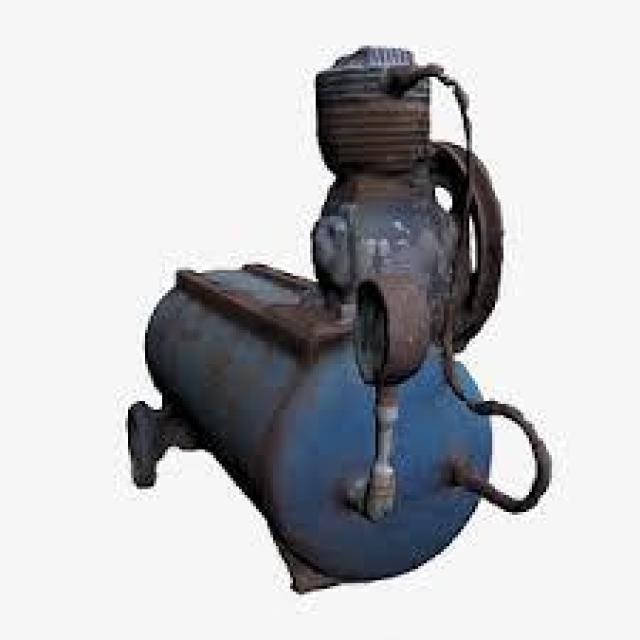compressor: (122, 42, 552, 594)
corrosion detected: (307, 42, 504, 520)
